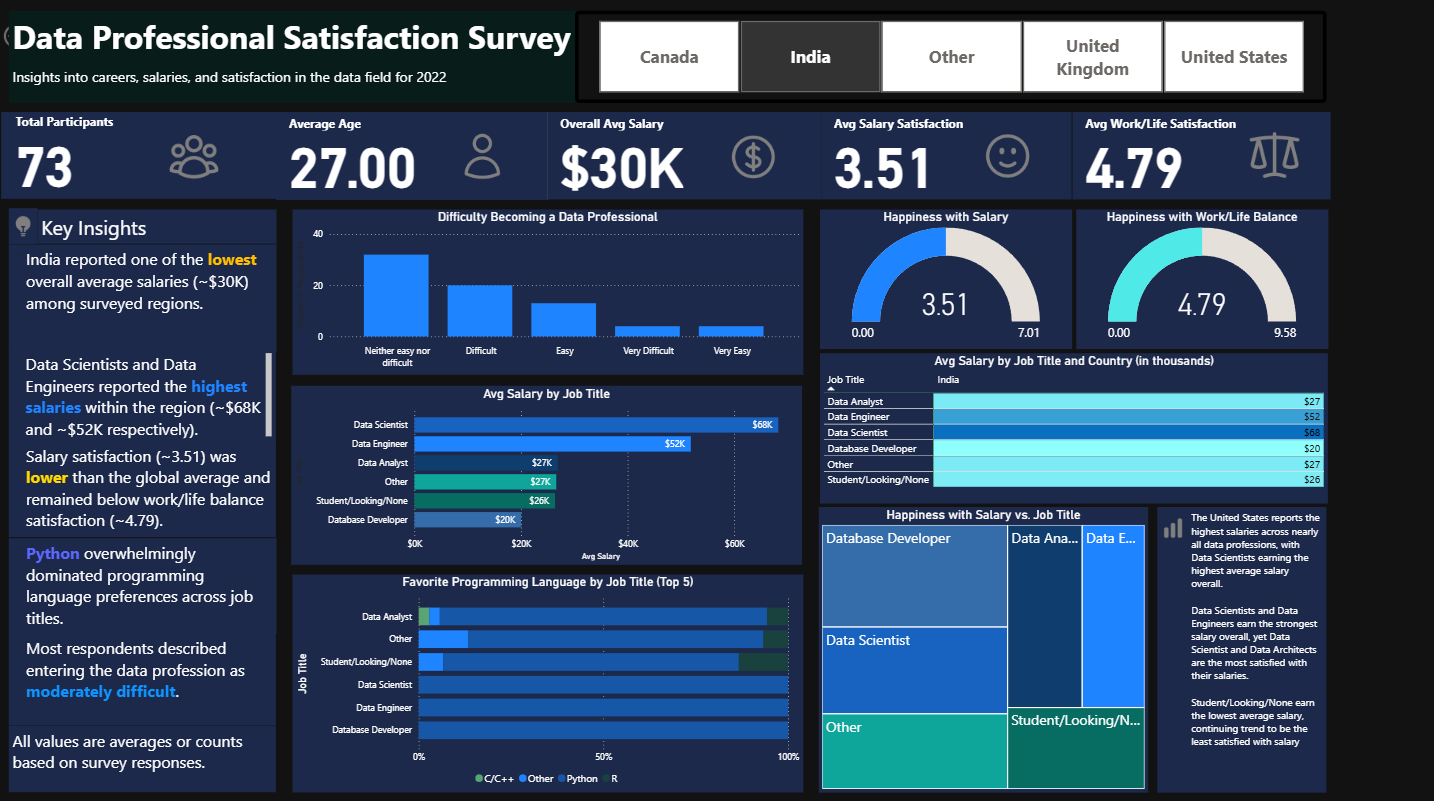

The dashboard page shown, as its layout file describes it:
{"tool":"powerbi","page":{"name":"India","canvas":[1920,1080],"ordinal":4},"visuals":[{"type":"cardVisual","fields":{"Data":["Data Professional Survey.Total Participants"]},"box":[1.6,153.9,371,115.8],"z":0,"group":"g6"},{"type":"group","id":"g1","title":"Group 3","box":[369.2,153.9,363.7,117.6],"z":0},{"type":"cardVisual","fields":{"Data":["Data Professional Survey.Average Age"]},"box":[369.2,153.9,363.7,117.6],"z":1000,"group":"g1"},{"type":"image","box":[178.2,170.2,161,84.5],"z":1000,"group":"g6"},{"type":"gauge","fields":{"Y":["Data Professional Survey.Avg Salary Satisfaction"]},"box":[1094.8,284.1,336.6,186.4],"z":1000},{"type":"group","id":"g2","title":"Group 4","box":[732.1,153.9,365.6,117.1],"z":2000},{"type":"cardVisual","fields":{"Data":["Data Professional Survey.Overall Avg Salary"]},"box":[732.1,153.9,365.6,117.1],"z":2000,"group":"g2"},{"type":"gauge","fields":{"Y":["Data Professional Survey.Avg WorkLife Satisfaction"]},"box":[1436.9,284.1,336.6,186.4],"z":3000},{"type":"group","id":"g3","title":"Group 5","box":[1097.7,153.9,334.5,117.1],"z":4000},{"type":"actionButton","box":[0,31,100,41],"z":5000},{"type":"cardVisual","fields":{"Data":["Data Professional Survey.Avg Salary Satisfaction"]},"box":[1097.7,153.9,334.5,117.1],"z":6000,"group":"g3"},{"type":"group","id":"g4","title":"Group 6","box":[1432.2,153.9,344.9,117.1],"z":6000},{"type":"pivotTable","title":"Avg Salary by Job Title and Country (in thousands)","fields":{"Rows":["Data Professional Survey.Job Title"],"Columns":["Data Professional Survey.Country"],"Values":["Avg(Data Professional Survey.Average Salary)"]},"box":[1094.8,475.9,678.6,200.9],"z":7000},{"type":"treemap","title":"Happiness with Salary vs. Job Title","fields":{"Values":["Avg(Data Professional Survey.Q6 - How Happy are you in your Current Position with the following? (Salary))"],"Group":["Data Professional Survey.Job Title"]},"box":[1093.2,680.5,440.2,381.5],"z":8000},{"type":"cardVisual","fields":{"Data":["Data Professional Survey.Avg WorkLife Satisfaction"]},"box":[1432.2,153.9,344.9,117.1],"z":9000,"group":"g4"},{"type":"textbox","box":[49.5,284.3,319.2,45.9],"z":9000},{"type":"barChart","title":"Avg Salary by Job Title","fields":{"Category":["Data Professional Survey.Job Title"],"Y":["Data Professional Survey.Overall Avg Salary"],"Series":["Data Professional Survey.Job Title"]},"box":[389.1,519.4,682.2,238.9],"z":10000},{"type":"clusteredColumnChart","title":"Difficulty Becoming a Data Professional","fields":{"Category":["Data Professional Survey.Q7 - How difficult was it for you to break into Data?"],"Y":["CountNonNull(Data Professional Survey.Unique ID)"]},"box":[390.9,284.1,682.2,220.8],"z":11000},{"type":"hundredPercentStackedBarChart","title":"Favorite Programming Language by Job Title (Top 5)","fields":{"Series":["Data Professional Survey.Q5 - Favorite Programming Language.1"],"Category":["Data Professional Survey.Job Title"],"Y":["CountNonNull(Data Professional Survey.Unique ID)"]},"box":[390.9,770.9,682.2,291.4],"z":12000},{"type":"textbox","box":[10.9,850.5,356.5,123.1],"z":13000},{"type":"textbox","box":[10.9,470.5,356.5,123.1],"z":14000},{"type":"textbox","box":[1546.3,680.5,225.6,381.5],"z":14000,"group":"g5"},{"type":"textbox","box":[10.9,18.1,756.4,70.6],"z":15000},{"type":"textbox","box":[10.9,88.7,756.4,52.5],"z":16000},{"type":"slicer","fields":{"Values":["Data Professional Survey.Country"]},"box":[767.3,18.1,1004.4,123.1],"z":17000},{"type":"textbox","box":[11,330.2,357.7,143.1],"z":18000},{"type":"textbox","box":[10.9,593.6,356.5,128.5],"z":19000},{"type":"textbox","box":[11,722.7,357.7,128.4],"z":20000},{"type":"textbox","box":[10.9,973.6,356.5,88.7],"z":21000},{"type":"image","box":[11,282.5,38.5,47.7],"z":22000},{"type":"group","id":"g5","title":"Group 1","box":[1546.3,680.5,225.6,381.5],"z":23000},{"type":"group","id":"g6","title":"Group 2","box":[1.6,153.9,371,115.8],"z":24000},{"type":"image","box":[583.4,174.7,123.4,79],"z":25000,"group":"g1"},{"type":"image","box":[937.5,173.2,139.4,79.9],"z":26000,"group":"g2"},{"type":"image","box":[1286.1,171.9,121.1,81.3],"z":27000,"group":"g3"},{"type":"image","box":[1641.9,169.2,119.2,85.3],"z":28000,"group":"g4"},{"type":"image","box":[1546.3,685.8,42.2,46.4],"z":30000,"group":"g5"}]}

Visuals, with their boxes in screenshot pixels (x1, y1, x2, y2), scaled from the page's 1920x1080 canvas onto the 1434x801 screenshot:
cardVisual - Data Professional Survey.Total Participants: detection(1, 114, 278, 200)
"Group 3" group: detection(276, 114, 547, 201)
cardVisual - Data Professional Survey.Average Age: detection(276, 114, 547, 201)
image: detection(133, 126, 253, 189)
gauge - Data Professional Survey.Avg Salary Satisfaction: detection(818, 211, 1069, 349)
"Group 4" group: detection(547, 114, 820, 201)
cardVisual - Data Professional Survey.Overall Avg Salary: detection(547, 114, 820, 201)
gauge - Data Professional Survey.Avg WorkLife Satisfaction: detection(1073, 211, 1325, 349)
"Group 5" group: detection(820, 114, 1070, 201)
actionButton: detection(0, 23, 75, 53)
cardVisual - Data Professional Survey.Avg Salary Satisfaction: detection(820, 114, 1070, 201)
"Group 6" group: detection(1070, 114, 1327, 201)
"Avg Salary by Job Title and Country (in thousands)" pivotTable: detection(818, 353, 1325, 502)
"Happiness with Salary vs. Job Title" treemap: detection(816, 505, 1145, 788)
cardVisual - Data Professional Survey.Avg WorkLife Satisfaction: detection(1070, 114, 1327, 201)
textbox: detection(37, 211, 275, 245)
"Avg Salary by Job Title" barChart: detection(291, 385, 800, 562)
"Difficulty Becoming a Data Professional" clusteredColumnChart: detection(292, 211, 801, 374)
"Favorite Programming Language by Job Title (Top 5)" hundredPercentStackedBarChart: detection(292, 572, 801, 788)
textbox: detection(8, 631, 274, 722)
textbox: detection(8, 349, 274, 440)
textbox: detection(1155, 505, 1323, 788)
textbox: detection(8, 13, 573, 66)
textbox: detection(8, 66, 573, 105)
slicer - Data Professional Survey.Country: detection(573, 13, 1323, 105)
textbox: detection(8, 245, 275, 351)
textbox: detection(8, 440, 274, 536)
textbox: detection(8, 536, 275, 631)
textbox: detection(8, 722, 274, 788)
image: detection(8, 210, 37, 245)
"Group 1" group: detection(1155, 505, 1323, 788)
"Group 2" group: detection(1, 114, 278, 200)
image: detection(436, 130, 528, 188)
image: detection(700, 128, 804, 188)
image: detection(961, 127, 1051, 188)
image: detection(1226, 125, 1315, 189)
image: detection(1155, 509, 1186, 543)
